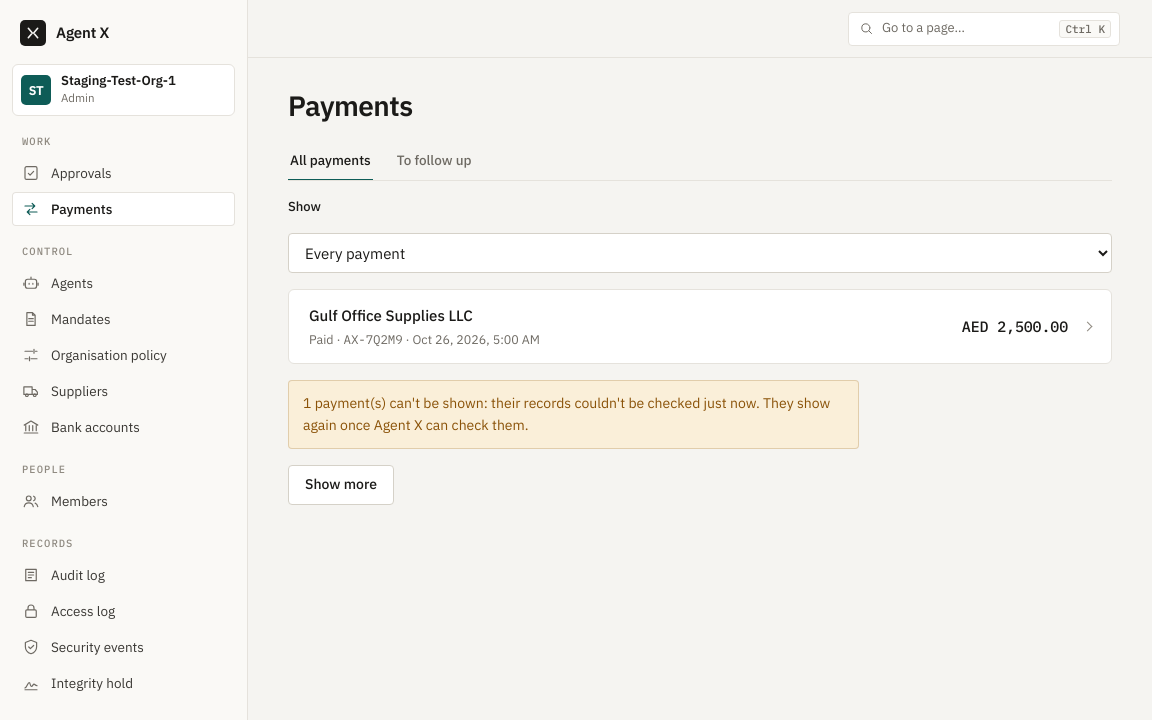
Test: the payments list (6C1) › reads the next page on Show more, and says how many couldn’t be shown
The width and height of the screenshot is (1152, 720).
Expected: the text "1 payment(s) can't be shown" is shown, [303, 394, 830, 434]
What coordinates should you click on to do the following:
click the button "Show more"
I would click on:
 (341, 485)
Its box is [288, 465, 394, 505].
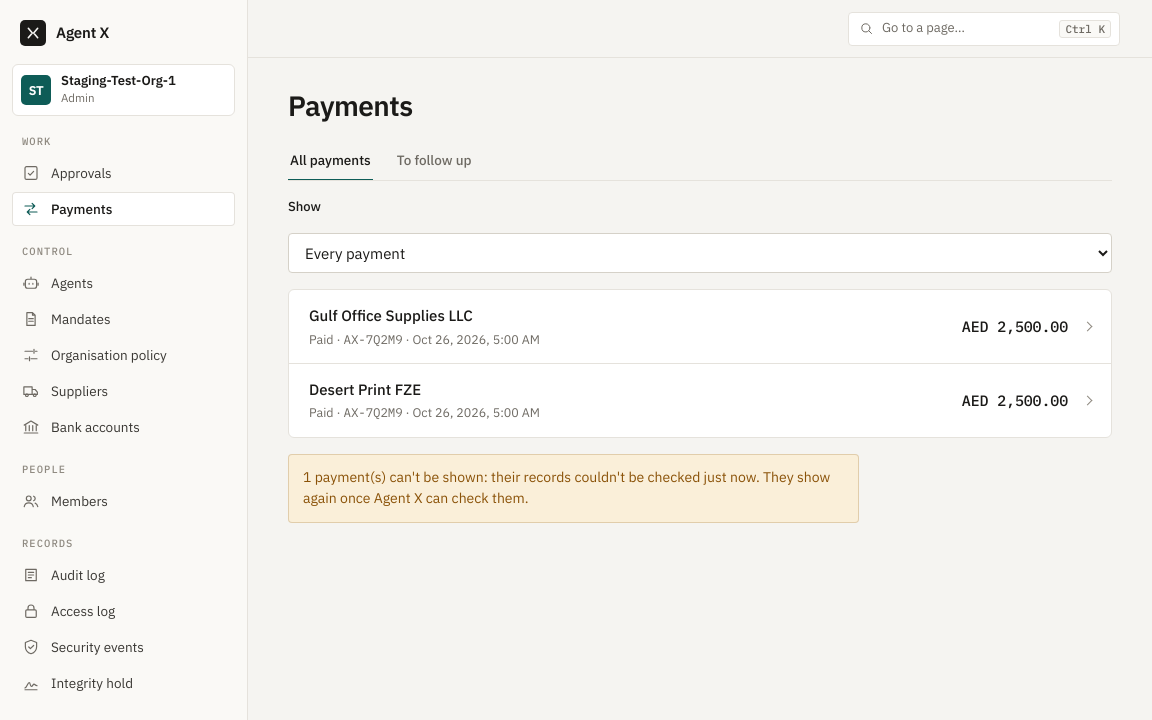
Expected: the text "Desert Print FZE" is shown, [309, 380, 421, 399]
